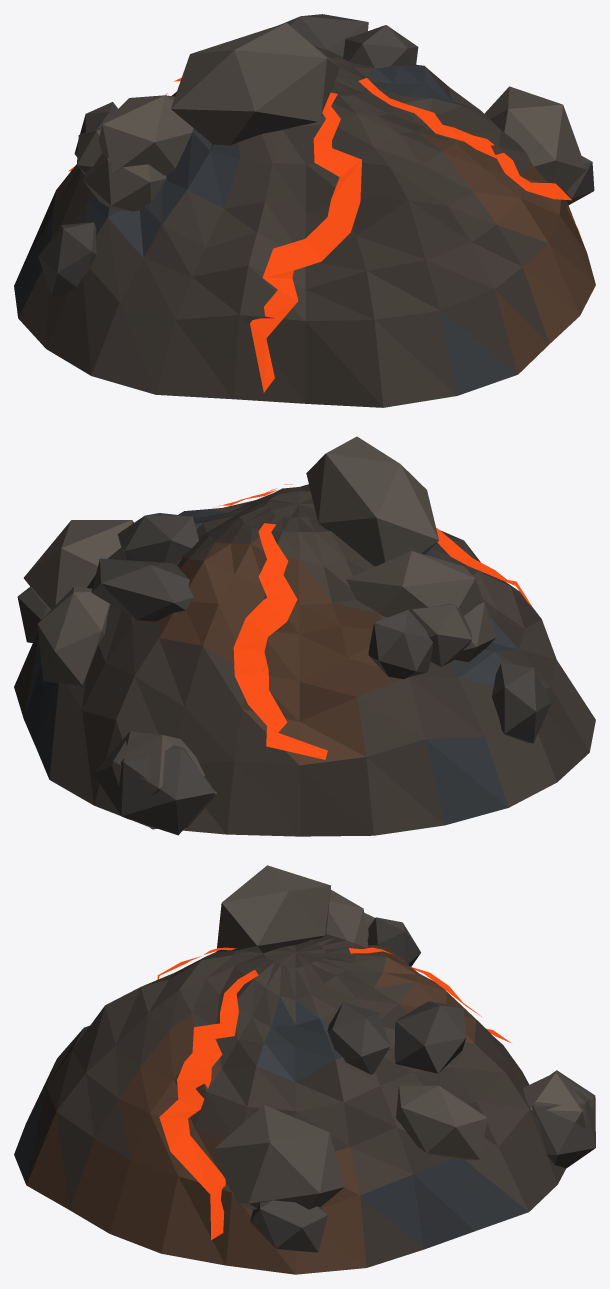
Rendered from slag-heap.glb.
3 renders of one model, top to bottom at view 1: azimuth 30°, elevation 25°; view 2: azimuth 150°, elevation 25°; view 3: azimuth 270°, elevation 25°, orthographic. The views are drawn at different scales.
Visible parts, largest first — view 1: slag-heap; view 2: slag-heap; view 3: slag-heap.
Boxes of the visible parts, x1,y1,x2,y2 form: slag-heap: (14,14,595,407); slag-heap: (14,436,595,836); slag-heap: (14,865,595,1274).
Bounding box in the file's own units: 5 × 2.5 × 5.
